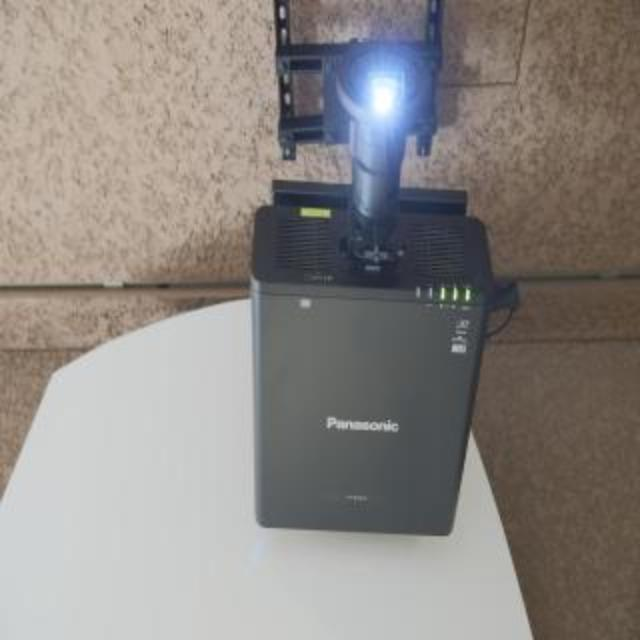Projector: (250, 0, 520, 538)
